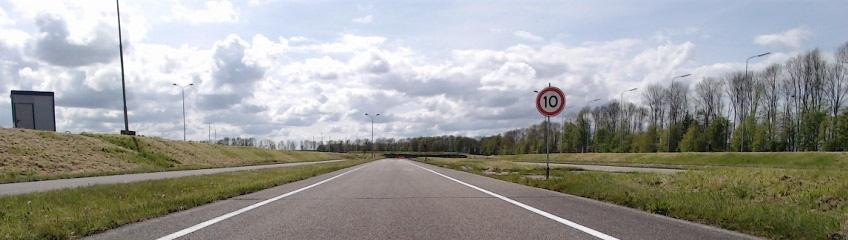Speed-limit-10km-h-: (536, 87, 566, 117)
